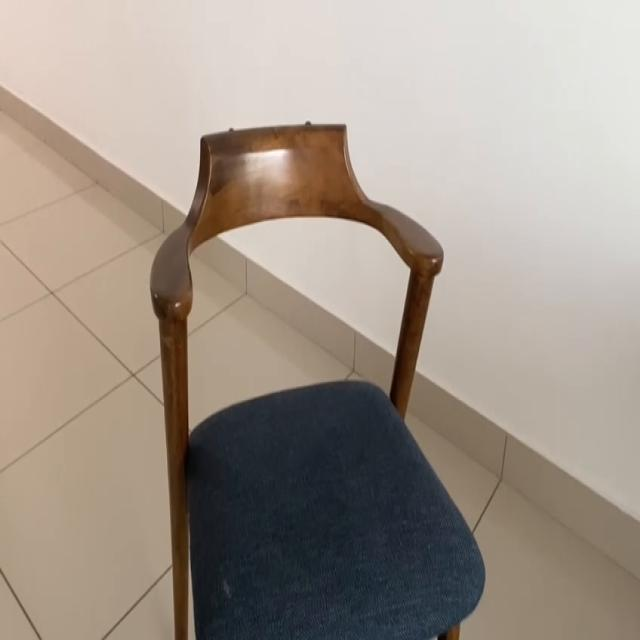Chair: (132, 108, 491, 638)
